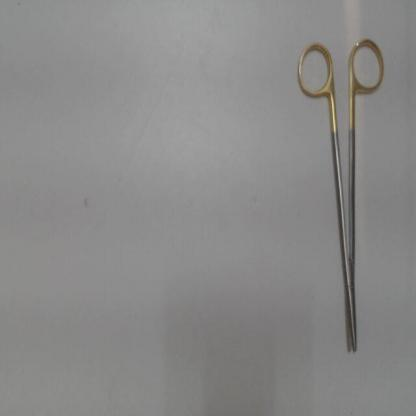7 Metzenbaum Scissors: (294, 30, 389, 358)
